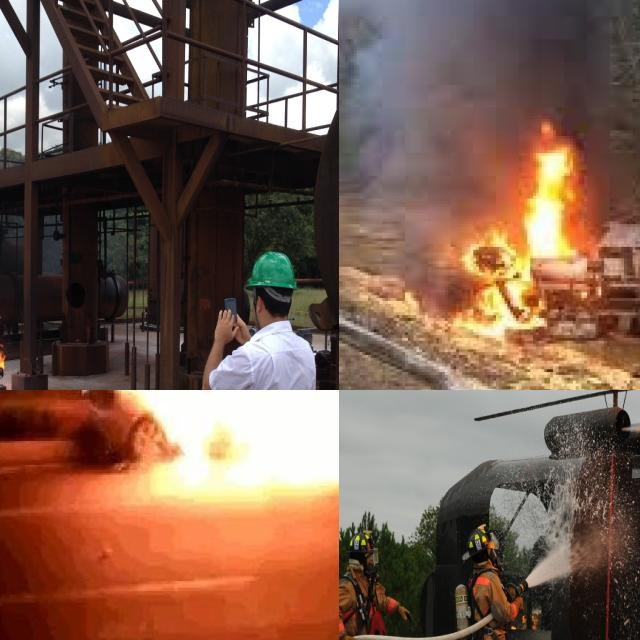fire: (439, 116, 624, 347), (92, 390, 339, 490)
smoke: (339, 0, 618, 255)
